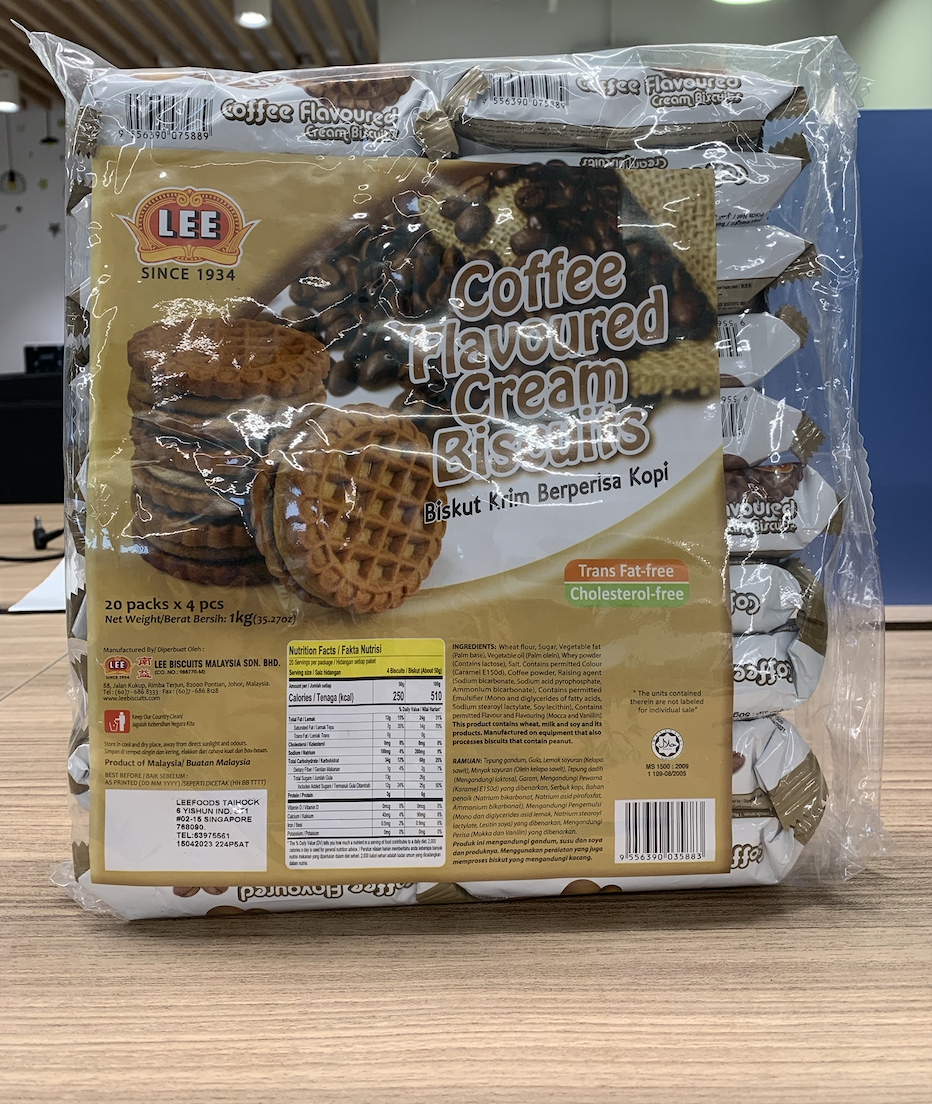cookies_1500g: (65, 77, 832, 886)
